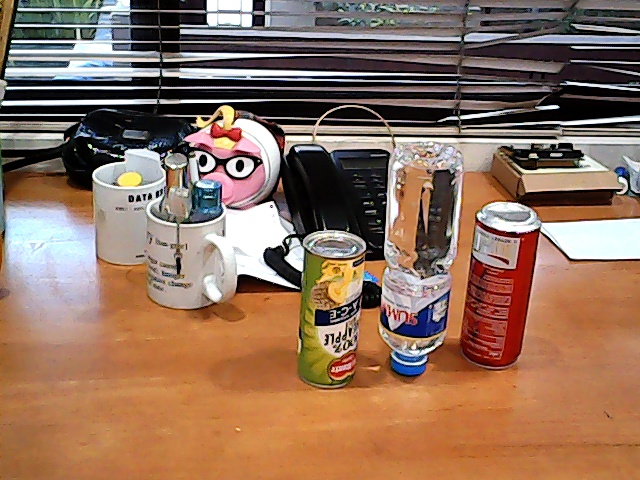Cola: (457, 189, 547, 375)
Pine Juice: (276, 219, 375, 399)
Summit Water: (375, 127, 461, 388)
